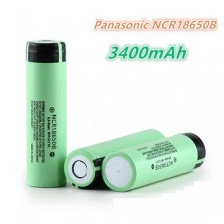battery: (21, 35, 70, 191), (98, 127, 207, 195), (62, 125, 169, 192)
